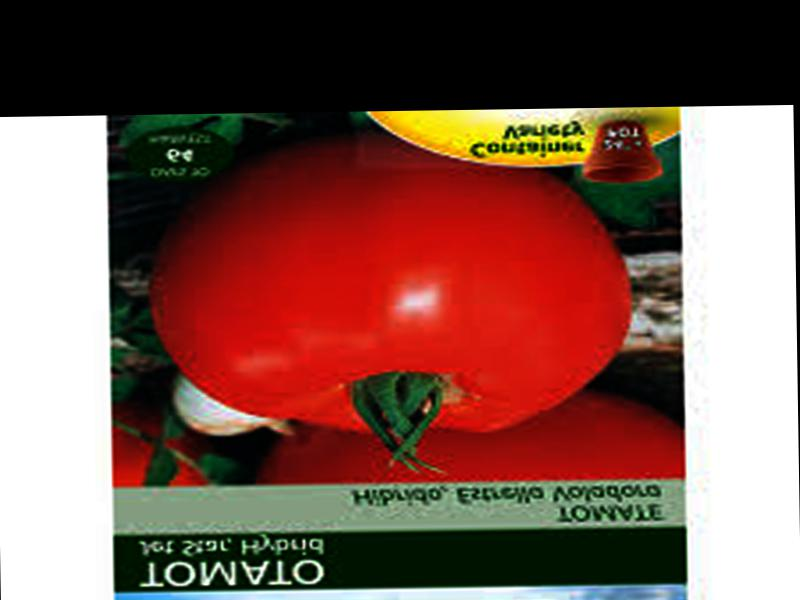Tomato: (147, 128, 628, 436)
